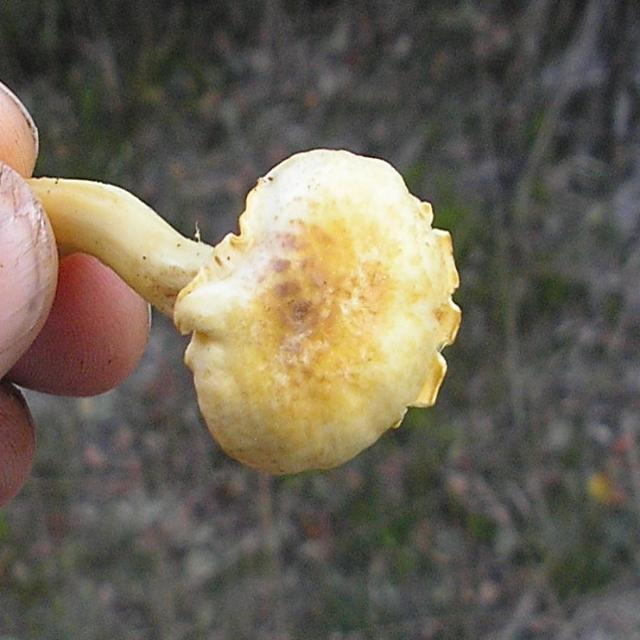Cantharellus cibarius: (8, 147, 461, 477)
